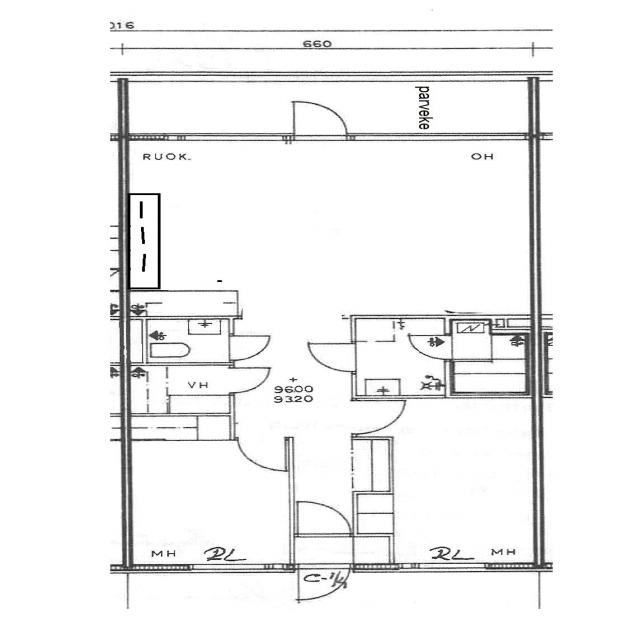door: (293, 99, 346, 140), (299, 564, 349, 606), (298, 500, 349, 538), (352, 401, 408, 434), (238, 437, 284, 471), (309, 344, 357, 372), (229, 368, 272, 392), (229, 336, 272, 360), (409, 335, 452, 359)
